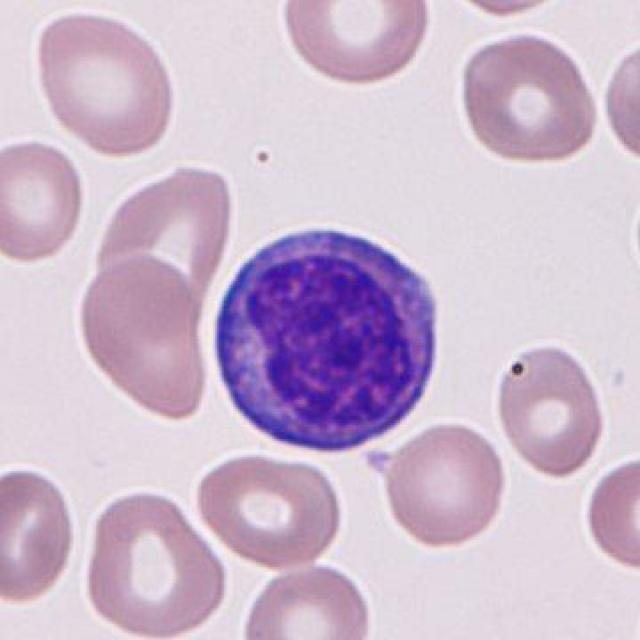RBC: (89, 155, 240, 336), (76, 247, 212, 423), (80, 485, 233, 640), (29, 5, 183, 158), (455, 26, 603, 170), (192, 450, 347, 570), (489, 334, 610, 482), (381, 418, 508, 551), (274, 0, 434, 89), (234, 558, 378, 640), (0, 135, 87, 267), (0, 462, 80, 603), (581, 454, 640, 574), (601, 34, 640, 167), (439, 0, 572, 21)
